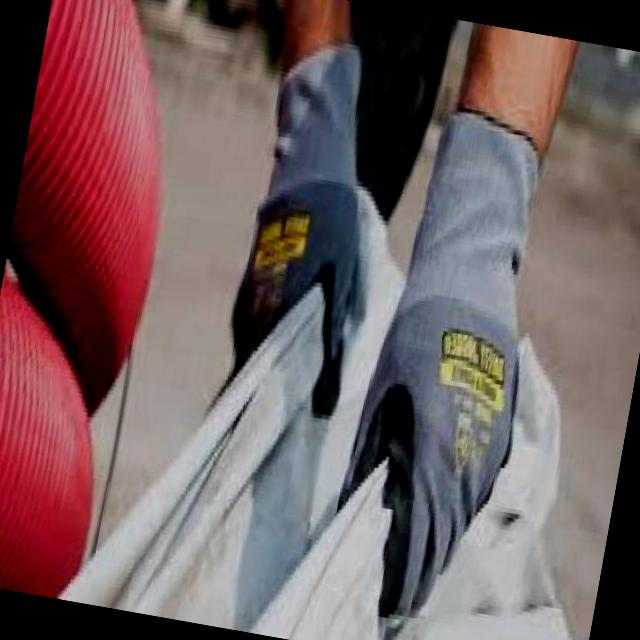gloves: (310, 113, 565, 640), (200, 30, 413, 432)
